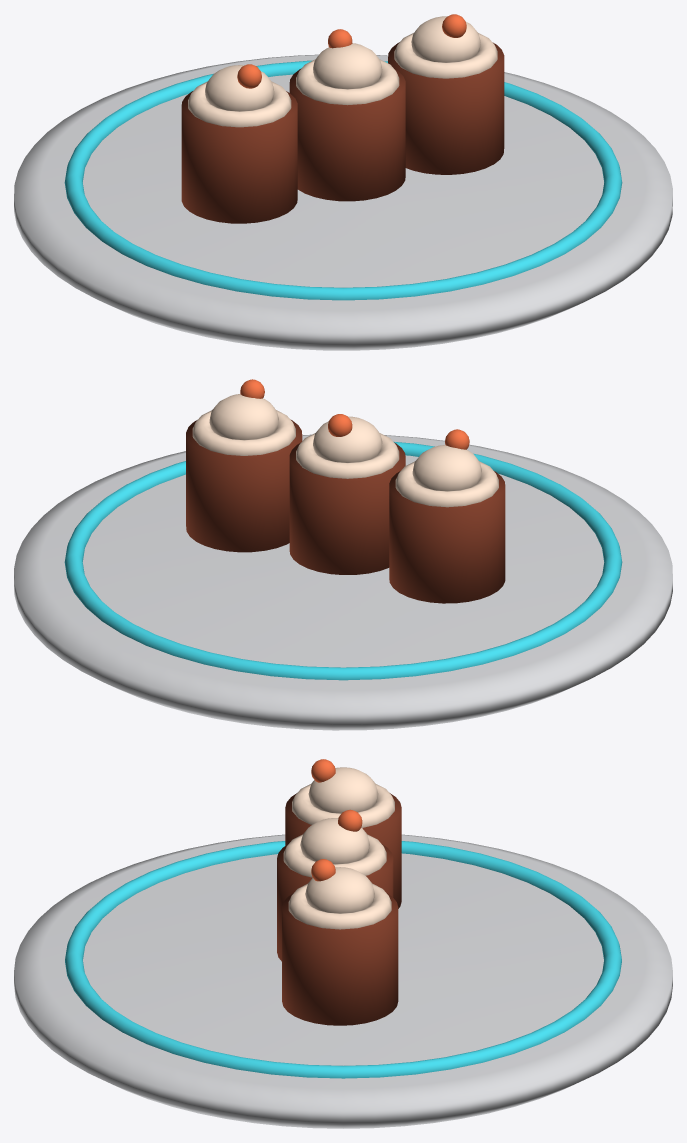
Rendered from dessert.glb.
3 renders of one model, top to bottom at view 1: azimuth 30°, elevation 25°; view 2: azimuth 150°, elevation 25°; view 3: azimuth 270°, elevation 25°, orthographic.
Parts seen in each view (by area): view 1: plate, cake (×3), plate-rim, cream (×3), cream-ring (×3); view 2: plate, cake (×3), plate-rim, cream (×3), cream-ring (×3); view 3: plate, plate-rim, cake (×3), cream (×3), cream-ring (×3).
Boxes of the visible parts, x1,y1,x2,y2 form: plate: (14, 54, 672, 350); cake (×3): (181, 42, 504, 223); plate-rim: (64, 60, 622, 300); cream (×3): (205, 16, 480, 111); cream-ring (×3): (188, 32, 497, 127); plate: (14, 434, 672, 730); cake (×3): (186, 419, 505, 603); plate-rim: (64, 441, 622, 680); cream (×3): (209, 394, 481, 491); cream-ring (×3): (192, 410, 498, 507); plate: (14, 834, 672, 1128); plate-rim: (65, 841, 621, 1078); cake (×3): (277, 793, 401, 1025); cream (×3): (300, 767, 378, 913); cream-ring (×3): (283, 783, 394, 929).
Size of the model in its own units: 3.96 by 1.25 by 3.96.
